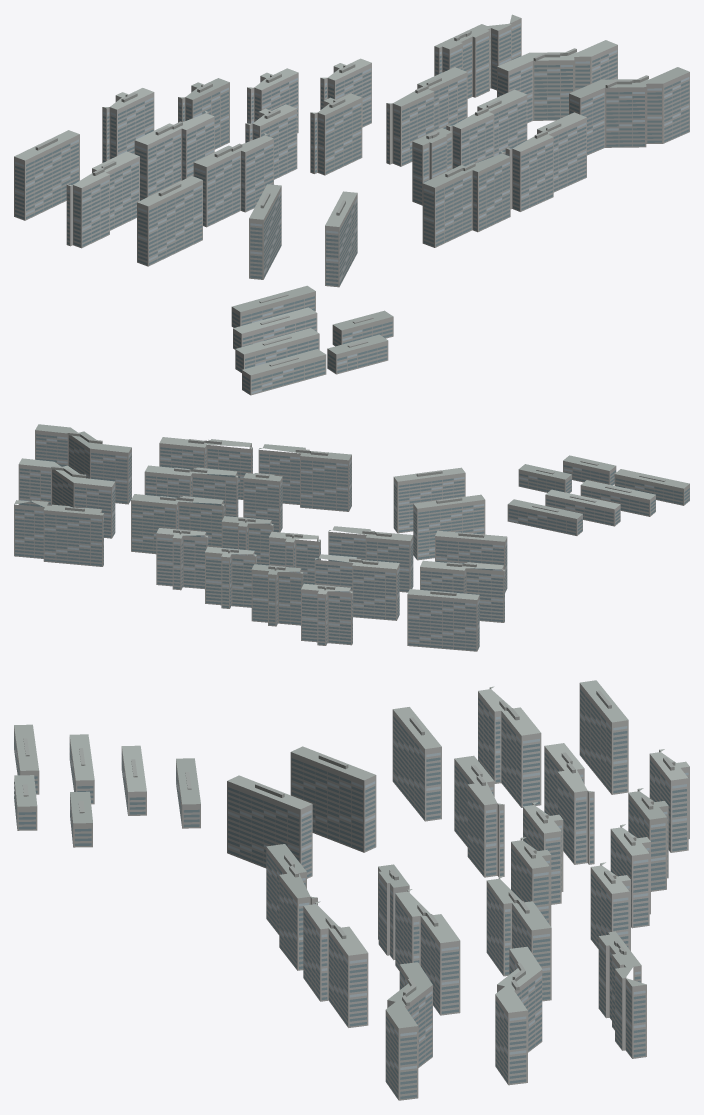
Rendered from apt-a13204105.glb.
3 renders of one model, top to bottom at view 1: azimuth 30°, elevation 25°; view 2: azimuth 150°, elevation 25°; view 3: azimuth 270°, elevation 25°, orthographic. The views are drawn at different scales.
Parts seen in each view (by area): view 1: apt-a13204105; view 2: apt-a13204105; view 3: apt-a13204105.
Part boxes in pixels (x1,y1,x2,y2): apt-a13204105: [14, 14, 689, 395]; apt-a13204105: [14, 424, 689, 651]; apt-a13204105: [14, 680, 689, 1100].
Size of the model in its own units: 477 by 47.81 by 387.
